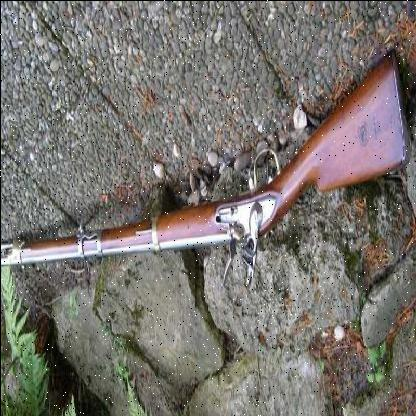rifle: (0, 51, 407, 286)
